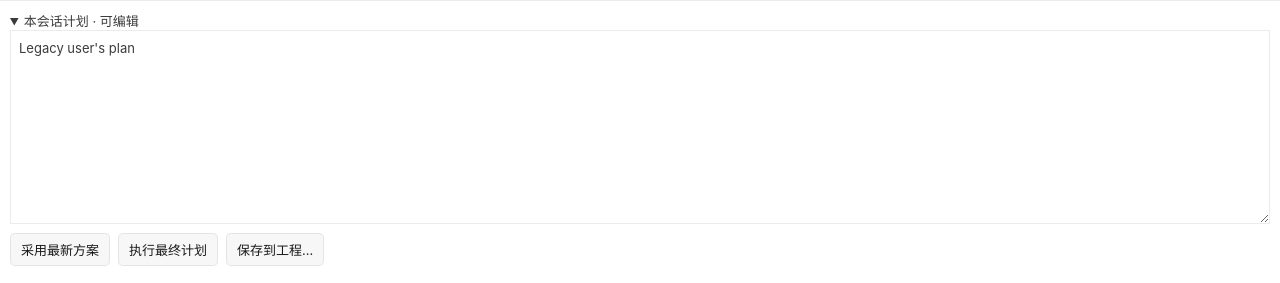
Test: EditablePlan generated results and user drafts › persists the edited state across remounts without discarding legacy text
This screenshot has width=1280, height=283.
Click the button "采用最新方案": (60, 249) x1=10 y1=232 x2=110 y2=266
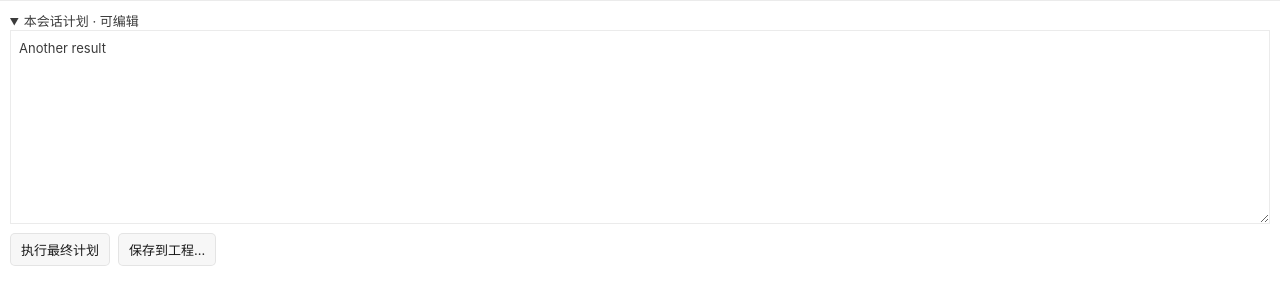
Now the text box named "编辑开发计划" holds "Another result"
